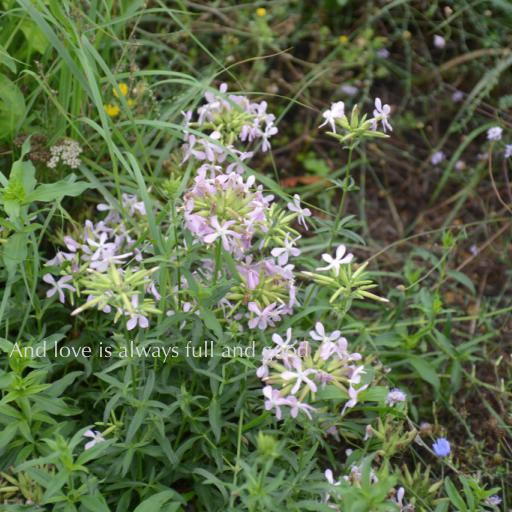Optima: (9, 340, 309, 363)
